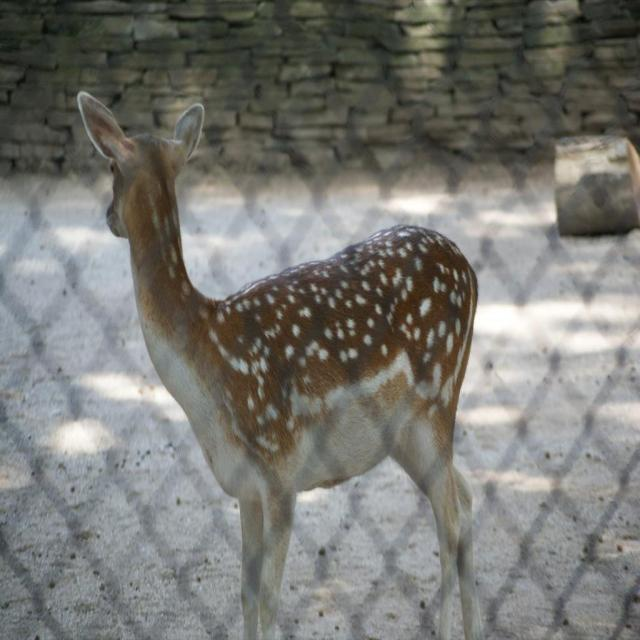Deer: (78, 88, 484, 640)
